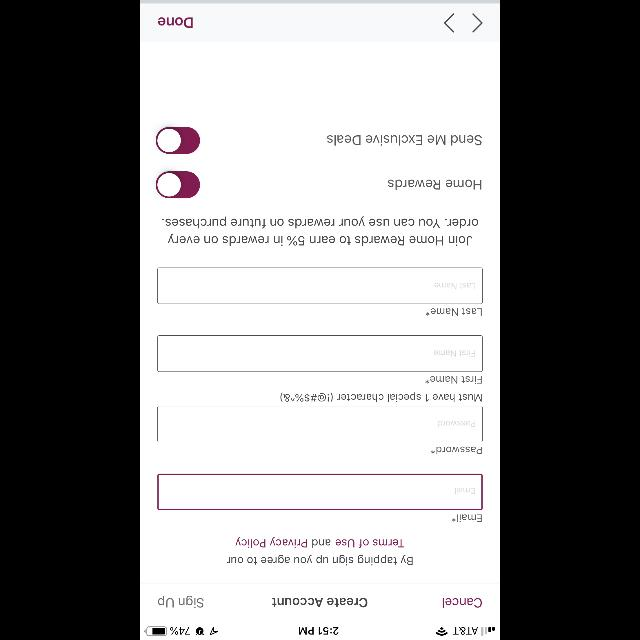icon: (472, 13, 482, 32), (444, 13, 454, 32)
input: (158, 268, 482, 304), (158, 335, 482, 371), (158, 406, 482, 442), (158, 474, 482, 510)
switch: (156, 126, 200, 154), (156, 172, 200, 198)
text: (162, 216, 478, 246), (226, 537, 412, 565), (280, 392, 482, 402), (327, 134, 481, 146), (272, 597, 368, 607), (388, 180, 482, 190), (158, 595, 204, 607), (425, 376, 481, 384), (426, 308, 482, 316), (431, 446, 482, 454), (442, 598, 482, 608), (158, 17, 192, 28), (434, 283, 474, 289), (434, 350, 474, 356), (452, 514, 482, 522), (438, 421, 476, 427), (455, 488, 475, 494)
uppertaskbar: (140, 626, 500, 640)
